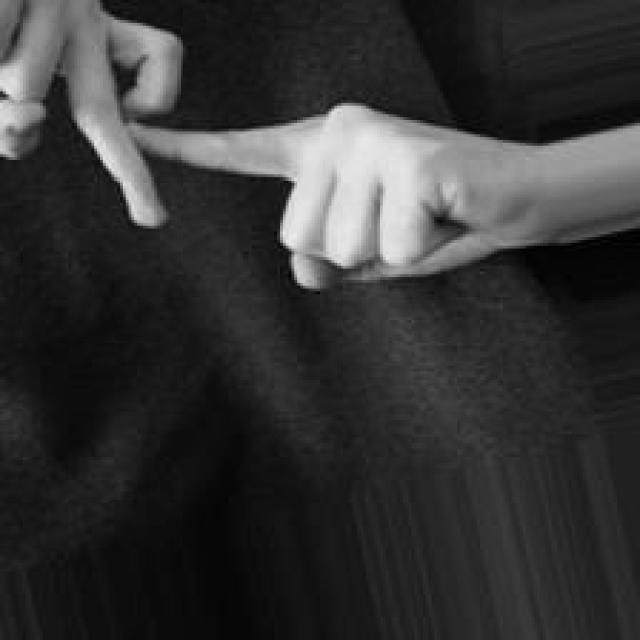R: (3, 1, 524, 300)
